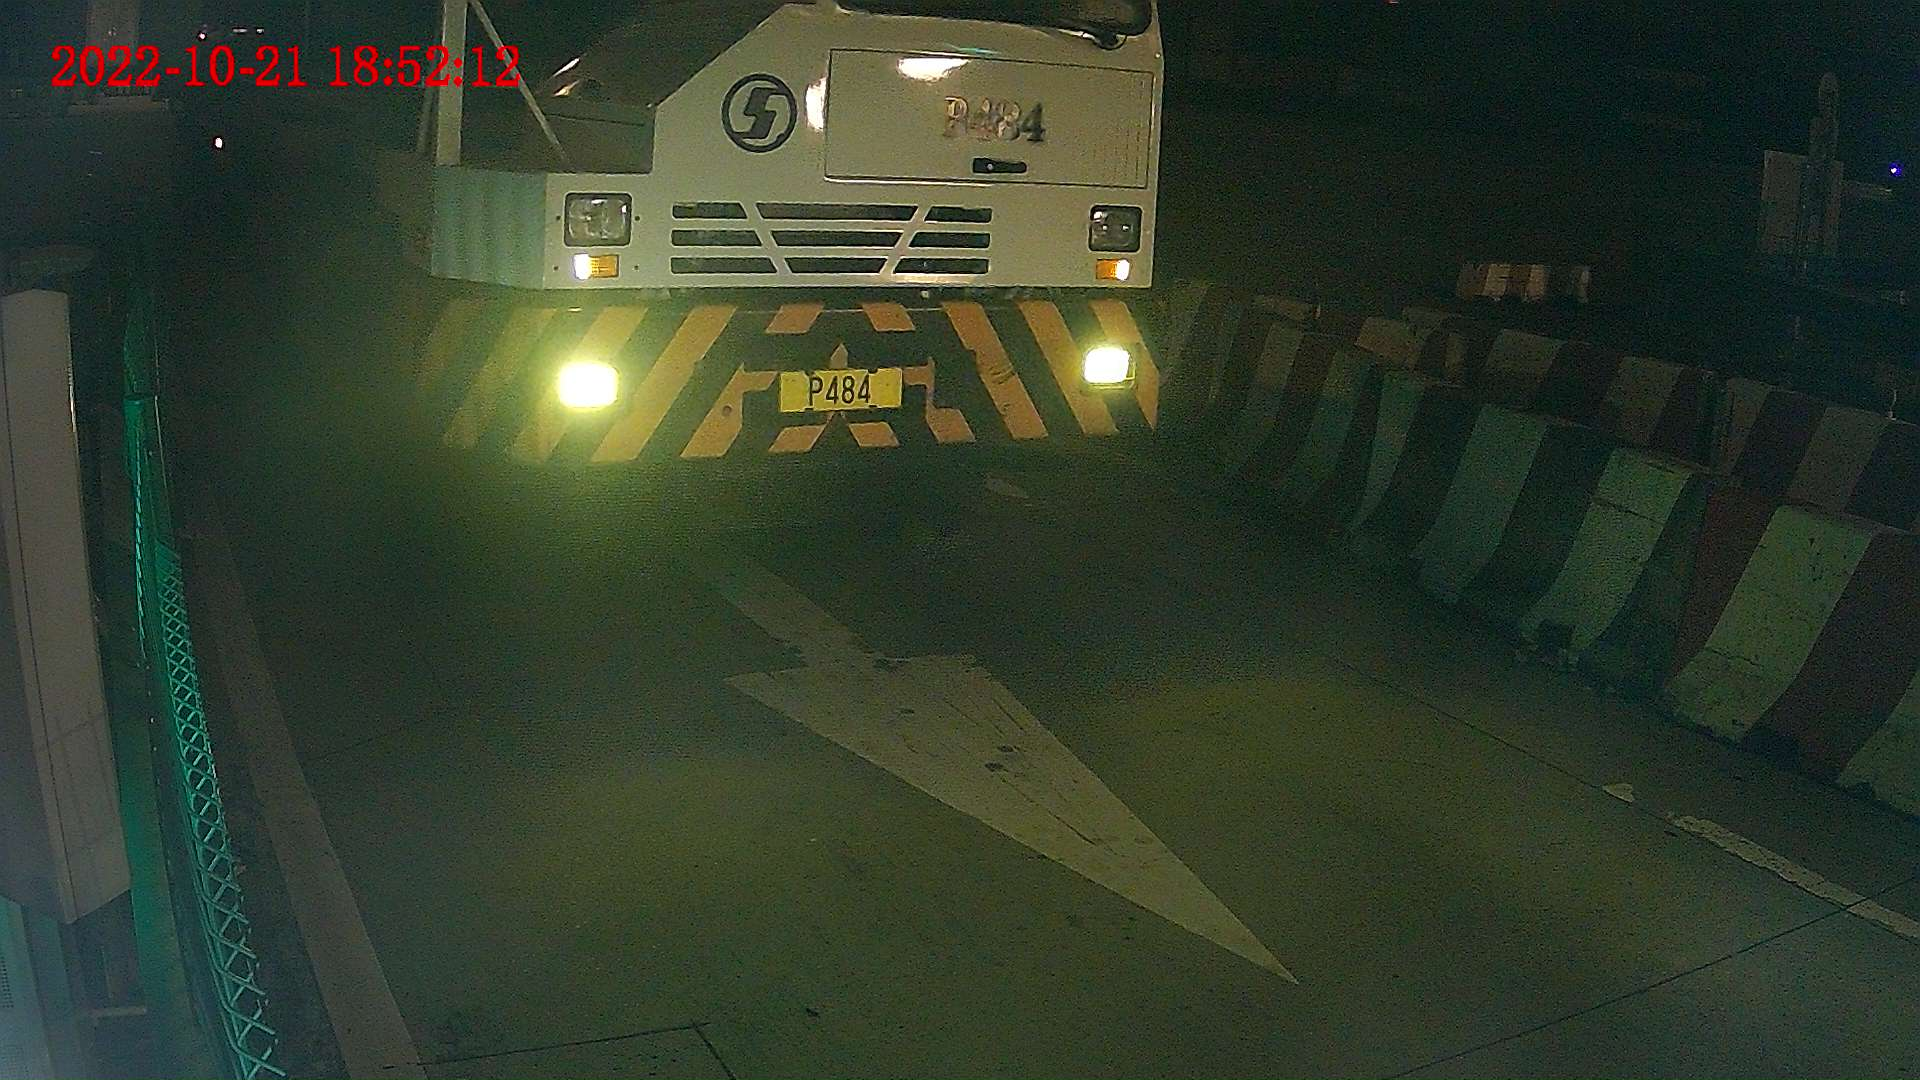head: (413, 1, 1164, 539)
plate: (783, 376, 902, 407)
